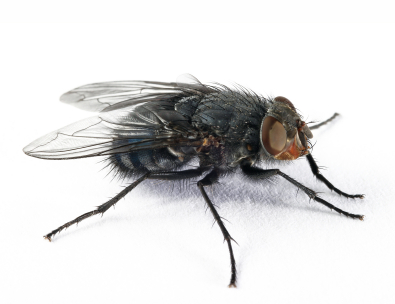house fly: (21, 70, 365, 292)
